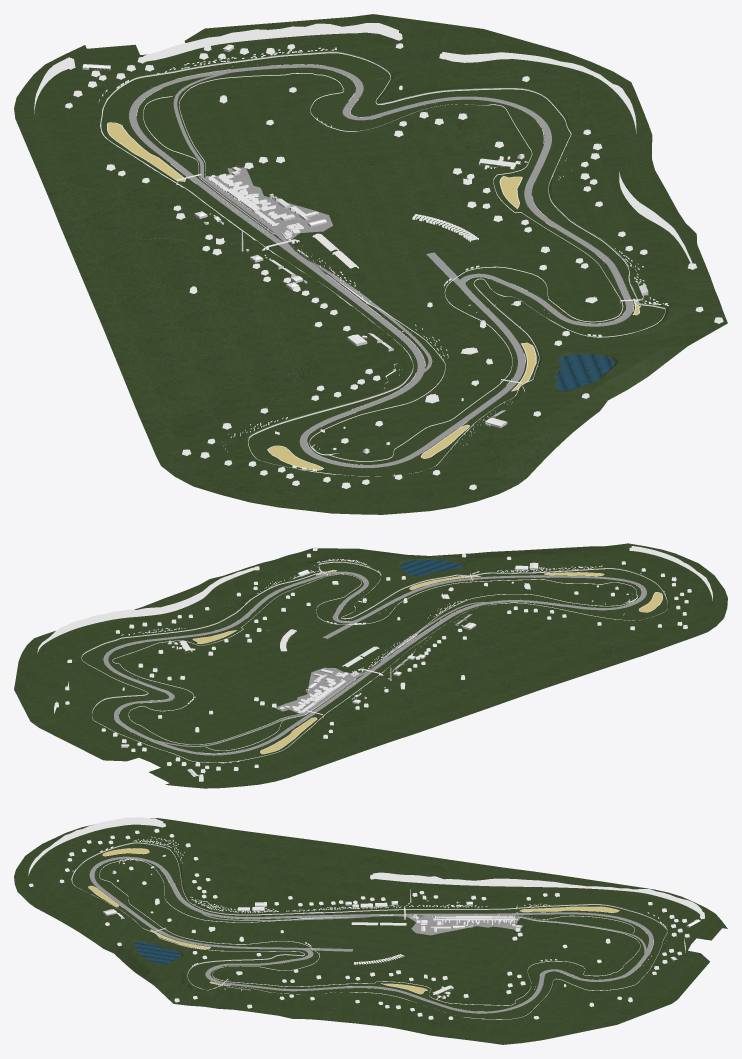
The model's file is laguna_seca.glb.
3 renders of one model, top to bottom at view 1: azimuth 30°, elevation 25°; view 2: azimuth 150°, elevation 25°; view 3: azimuth 270°, elevation 25°, orthographic. The views are drawn at different scales.
Parts seen in each view (by area): view 1: Object002_SUB0, EXTERIORES_SUB0, 1GRASS_3_SUB1, 1GRASS_4_SUB1, 1GRASS_2_SUB1, 1GRASS_1_SUB2, MESHROAD_2, MESHROAD_4, track_env_011, MESHROAD_1_SUB0, MESHROAD_3, 1WALL_RUEDAS3 (+10 smaller); view 2: Object002_SUB0, EXTERIORES_SUB0, 1GRASS_3_SUB1, 1GRASS_4_SUB1, 1GRASS_2_SUB1, 1GRASS_1_SUB2, track_env_010, 1WALL_RUEDAS3, MESHROAD_2, MESHROAD_4, 1WALL_RUEDAS, MESHROAD_1_SUB0 (+11 smaller); view 3: Object002_SUB0, EXTERIORES_SUB0, 1GRASS_3_SUB1, 1GRASS_4_SUB1, 1GRASS_2_SUB1, track_env_012, 1GRASS_1_SUB2, 1WALL_RUEDAS3, MESHROAD_2, 1WALL_RUEDAS, MESHROAD_4, MESHROAD_1_SUB0 (+11 smaller).
Boxes of the visible parts, x1=… form: Object002_SUB0: x1=68, y1=212, x2=727, y2=514; EXTERIORES_SUB0: x1=14, y1=14, x2=678, y2=428; 1GRASS_3_SUB1: x1=310, y1=74, x2=665, y2=336; 1GRASS_4_SUB1: x1=101, y1=53, x2=388, y2=204; 1GRASS_2_SUB1: x1=248, y1=317, x2=538, y2=476; 1GRASS_1_SUB2: x1=208, y1=200, x2=445, y2=416; MESHROAD_2: x1=299, y1=273, x2=547, y2=467; MESHROAD_4: x1=129, y1=64, x2=505, y2=155; track_env_011: x1=143, y1=23, x2=398, y2=61; MESHROAD_1_SUB0: x1=220, y1=200, x2=432, y2=413; MESHROAD_3: x1=500, y1=100, x2=633, y2=326; 1WALL_RUEDAS3: x1=101, y1=52, x2=665, y2=476; Object002_SUB0: x1=188, y1=543, x2=727, y2=724; EXTERIORES_SUB0: x1=14, y1=583, x2=561, y2=788; 1GRASS_3_SUB1: x1=82, y1=562, x2=396, y2=710; 1GRASS_4_SUB1: x1=92, y1=700, x2=337, y2=762; 1GRASS_2_SUB1: x1=382, y1=569, x2=667, y2=620; 1GRASS_1_SUB2: x1=325, y1=594, x2=571, y2=704; track_env_010: x1=37, y1=567, x2=255, y2=686; 1WALL_RUEDAS3: x1=81, y1=562, x2=667, y2=762; MESHROAD_2: x1=332, y1=575, x2=646, y2=624; MESHROAD_4: x1=104, y1=660, x2=288, y2=755; 1WALL_RUEDAS: x1=112, y1=574, x2=637, y2=744; MESHROAD_1_SUB0: x1=326, y1=600, x2=569, y2=702; Object002_SUB0: x1=14, y1=818, x2=473, y2=1020; EXTERIORES_SUB0: x1=128, y1=863, x2=727, y2=1044; 1GRASS_3_SUB1: x1=188, y1=941, x2=591, y2=1019; 1GRASS_4_SUB1: x1=483, y1=905, x2=667, y2=990; 1GRASS_2_SUB1: x1=72, y1=843, x2=247, y2=950; track_env_012: x1=373, y1=872, x2=702, y2=914; 1GRASS_1_SUB2: x1=164, y1=880, x2=483, y2=922; 1WALL_RUEDAS3: x1=72, y1=843, x2=667, y2=1019; MESHROAD_2: x1=89, y1=856, x2=313, y2=965; 1WALL_RUEDAS: x1=99, y1=859, x2=640, y2=1005; MESHROAD_4: x1=513, y1=912, x2=653, y2=1007; MESHROAD_1_SUB0: x1=169, y1=881, x2=483, y2=920.
Size of what is drawn, in the model's own units: 1373 by 67.06 by 1790.
Materials: 111 (13 with a texture image).
